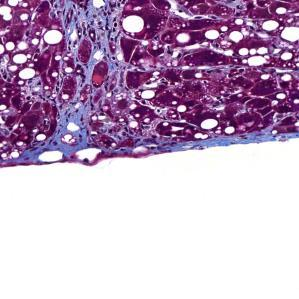fibrosis: (57, 26, 128, 140)
